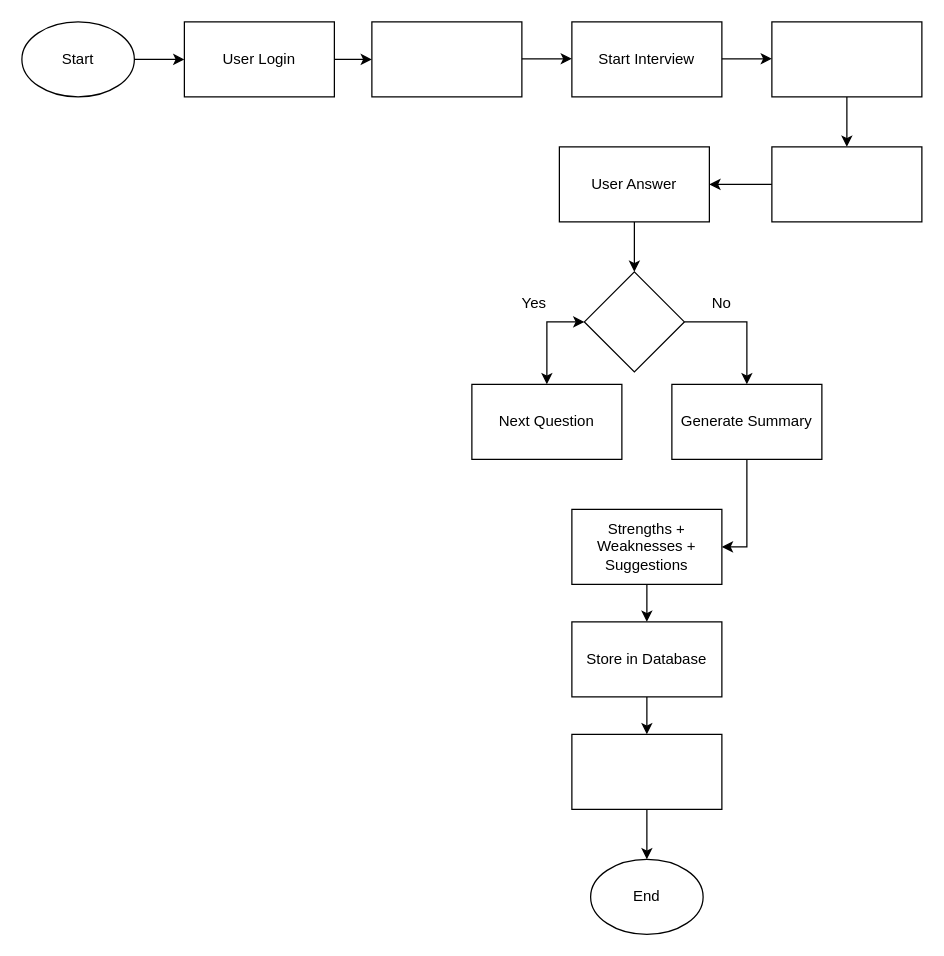
Some shapes in this 944 by 956 pixel diagram are drawn without their labels. Here are the shapes that lost their labels. From the top down, the centre of each, then its label:
the point at 446,59: Enter Role + Level
the point at 846,59: Generate Question (AI
the point at 846,184: Display Question
the point at 633,321: More Questions?
the point at 646,771: Display Result
